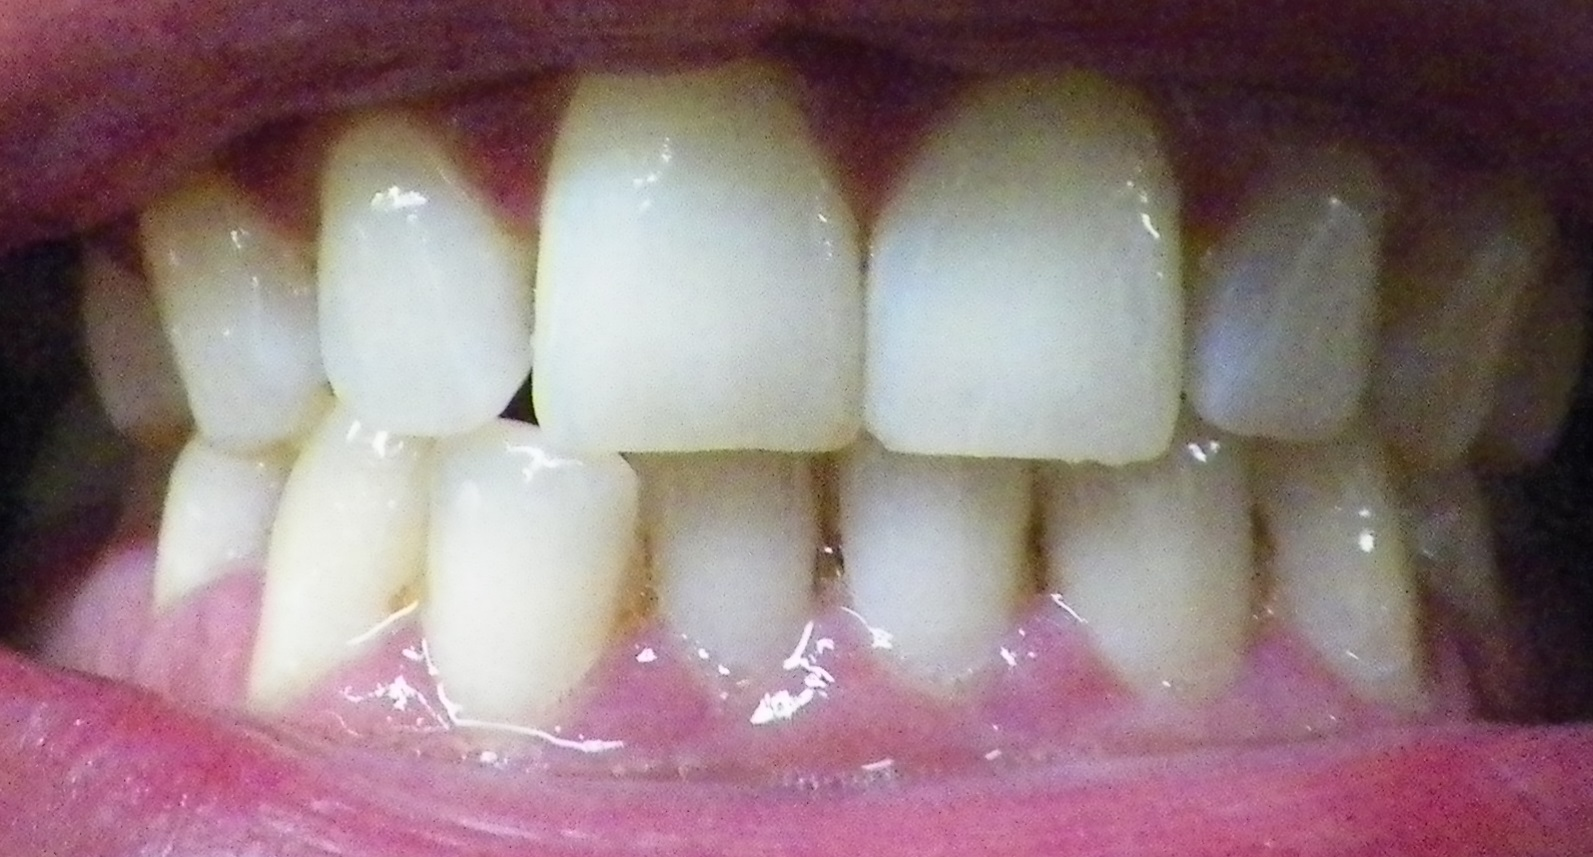boca: (45, 72, 1561, 721)
